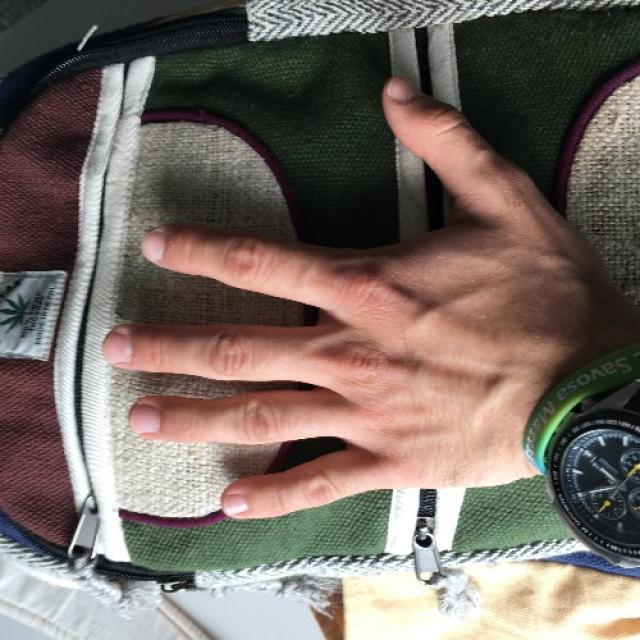paper: (103, 72, 556, 520)
